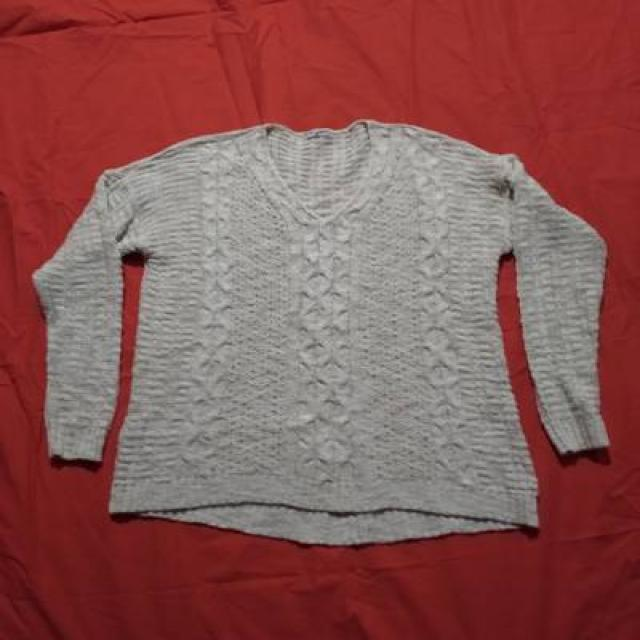Clothes -Biodegradable-: (41, 121, 610, 540)
